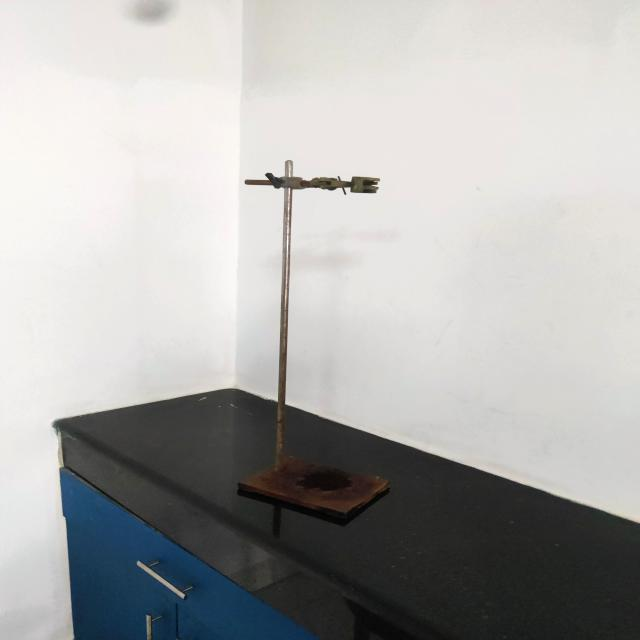Burette_Stands: (226, 130, 420, 552)
